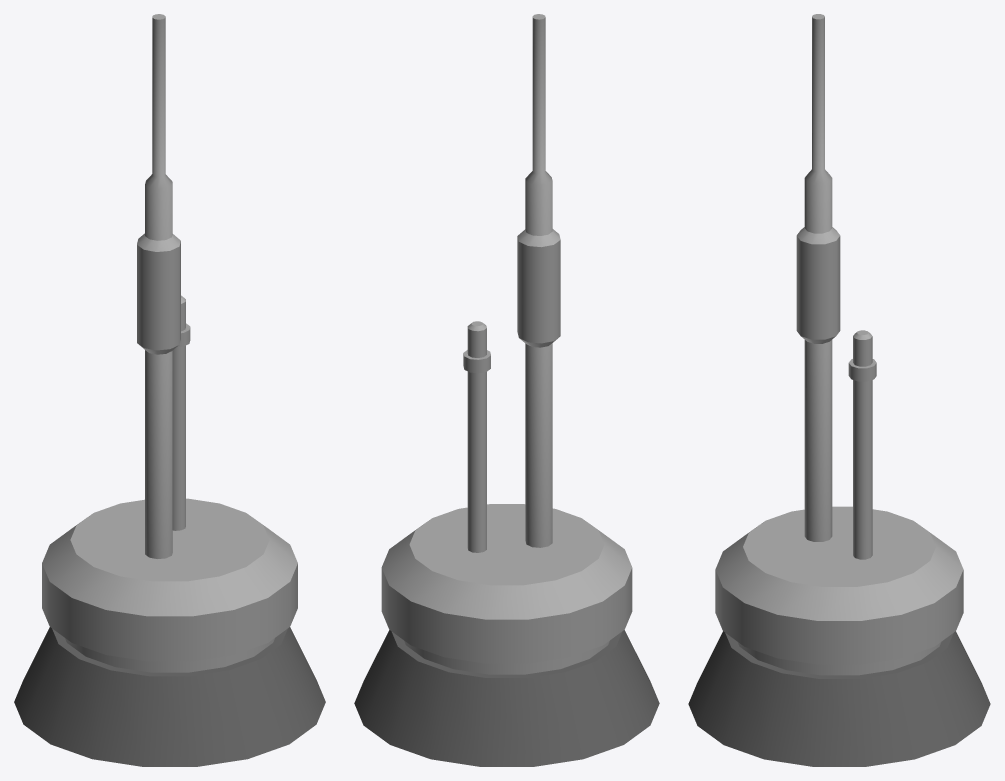
Rendered from Roof_Antenna.gltf.
The picture shows the model from 3 angles, left to right: view 1: azimuth 30°, elevation 25°; view 2: azimuth 150°, elevation 25°; view 3: azimuth 270°, elevation 25°; orthographic projection. The views are drawn at different scales.
Visible parts, largest first — view 1: Roof_Antenna; view 2: Roof_Antenna; view 3: Roof_Antenna.
Boxes of the visible parts, x1=… form: Roof_Antenna: x1=14, y1=14, x2=325, y2=766; Roof_Antenna: x1=354, y1=14, x2=659, y2=766; Roof_Antenna: x1=688, y1=14, x2=990, y2=766.
Size of the model in its own units: 1.41 by 3.54 by 1.43.
Materials: 1 (1 with a texture image).
